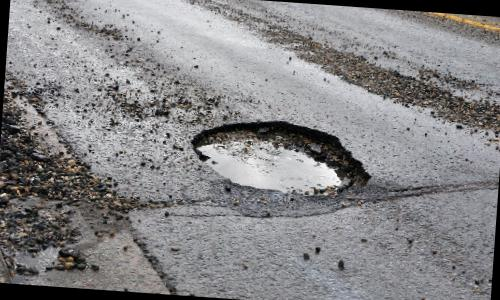pothole: (173, 102, 384, 214)
